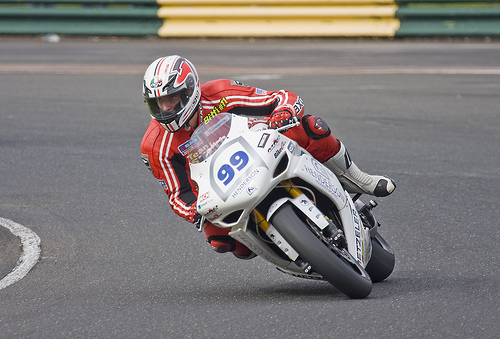helmet: (139, 55, 204, 128)
